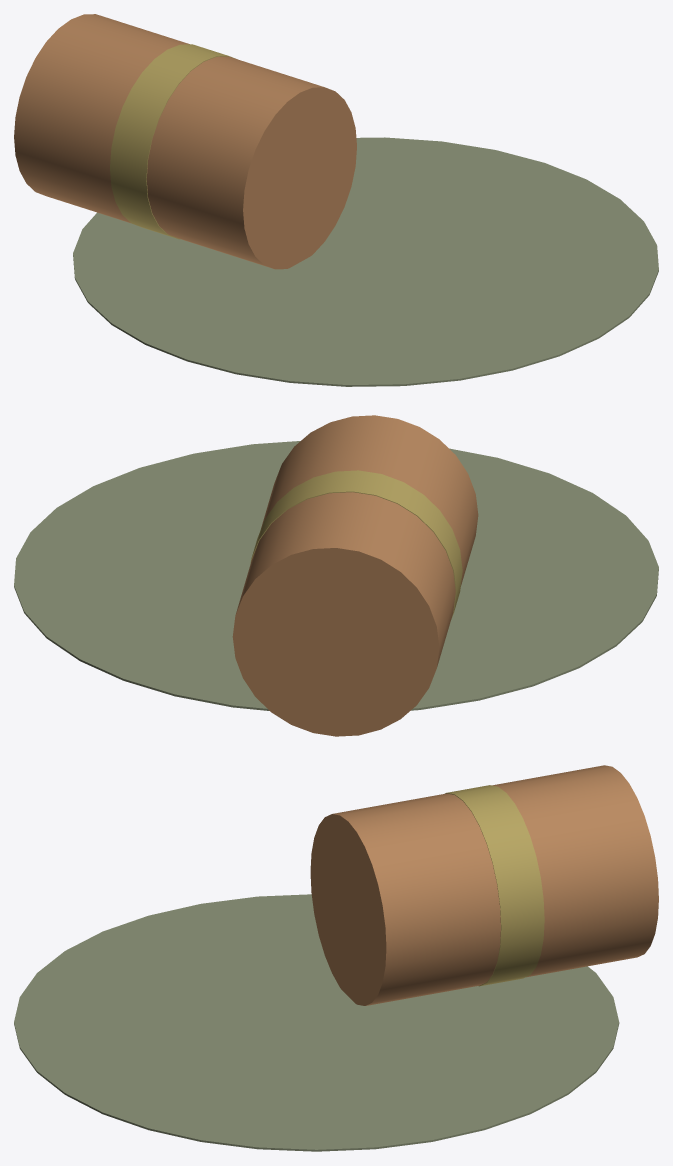
File: chem_barrel_leaking.glb
The picture shows the model from 3 angles, top to bottom: view 1: azimuth 30°, elevation 25°; view 2: azimuth 150°, elevation 25°; view 3: azimuth 270°, elevation 25°; orthographic projection. The views are drawn at different scales.
Visible parts, largest first — view 1: chem_barrel_leaking; view 2: chem_barrel_leaking; view 3: chem_barrel_leaking.
Part boxes in pixels (x1=…): chem_barrel_leaking: x1=14, y1=14, x2=658, y2=386; chem_barrel_leaking: x1=14, y1=415, x2=658, y2=736; chem_barrel_leaking: x1=14, y1=765, x2=658, y2=1151.
Size of what is drawn, in the model's own units: 1.8 by 0.584 by 1.92.
